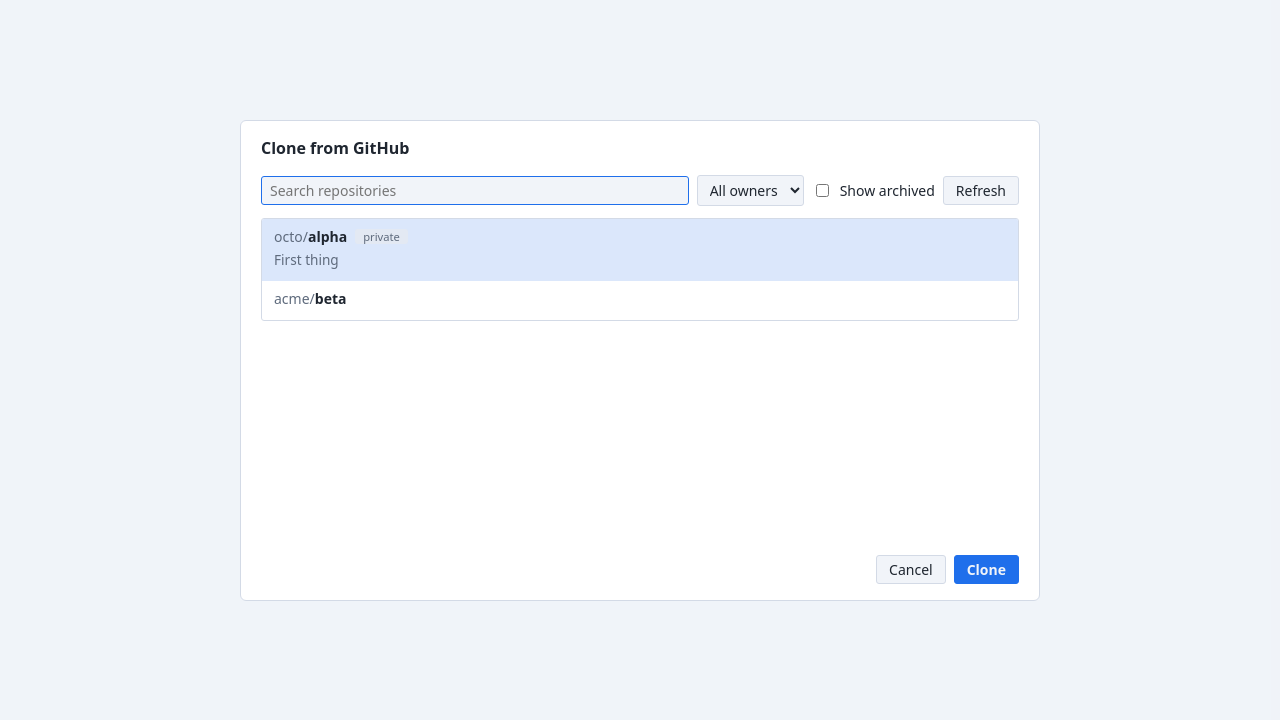
Test: RepoPickerDialog › lists repos, hiding archived by default
Expected: the number of options is 2, [262,218,1018,280]; [274,288,346,308]
Click the checkbox labelled "Show archived" at (822, 190), box [816,184,829,196]
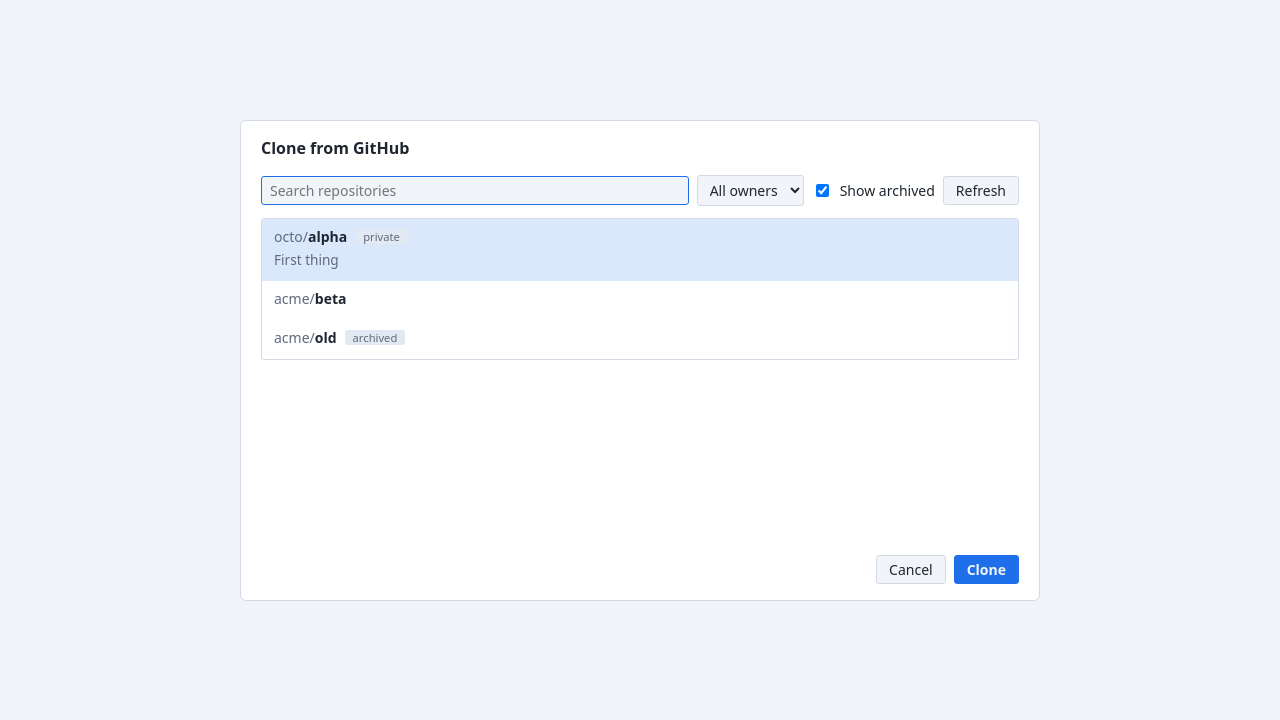
Expected: the number of options is 3, [262,218,1018,280]; [274,288,346,308]; [274,328,405,346]
